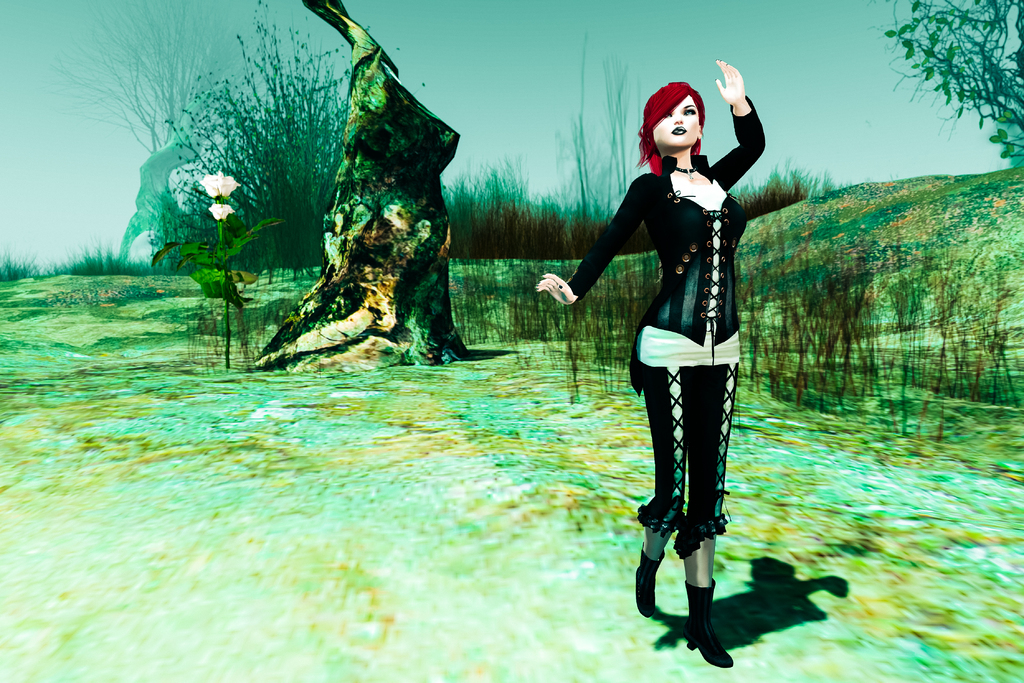Tree: (60, 0, 650, 271), (881, 0, 1023, 167)
